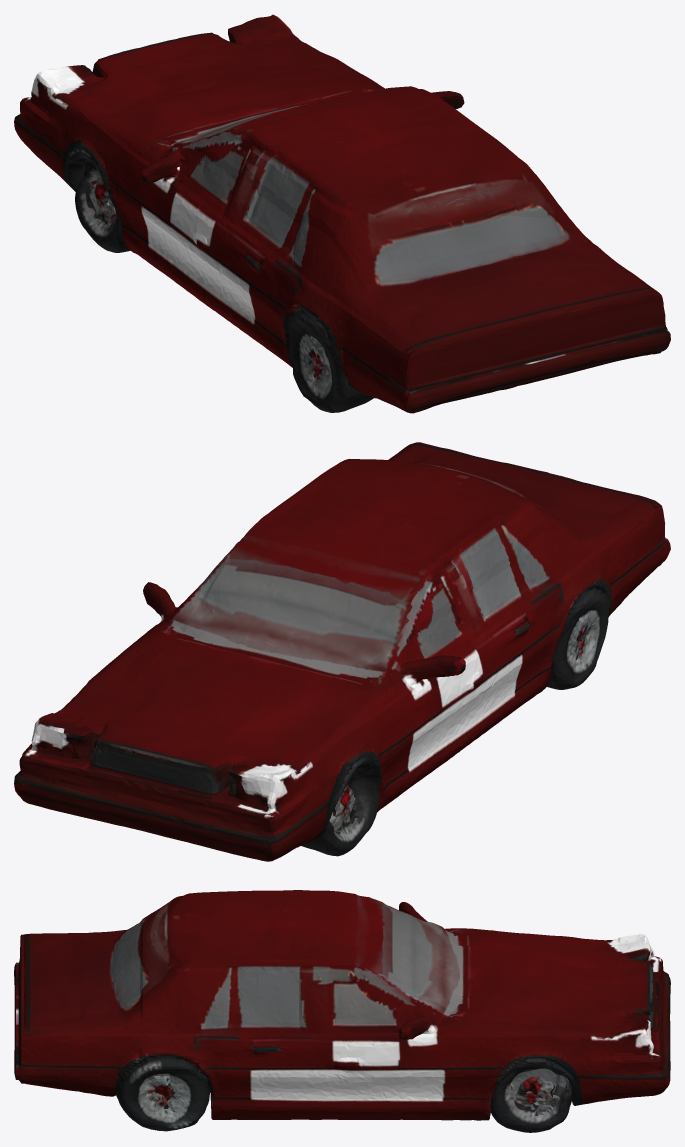
3 views of the same model, one above another, from view 1: azimuth 30°, elevation 25°; view 2: azimuth 150°, elevation 25°; view 3: azimuth 270°, elevation 25° (orthographic). The views are drawn at different scales.
Parts seen in each view (by area): view 1: world; view 2: world; view 3: world.
Part boxes in pixels (<box>): world: <box>14,14,670,413</box>; world: <box>14,442,670,861</box>; world: <box>14,890,670,1132</box>.
Bounding box in the file's own units: 0.4613 × 0.2688 × 0.9962.
1 material, 1 textured.
